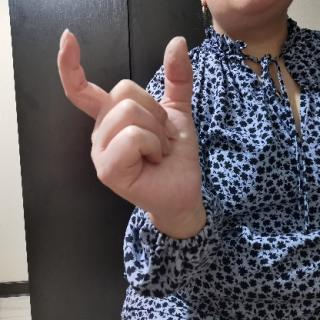NOON: (57, 25, 206, 217)
